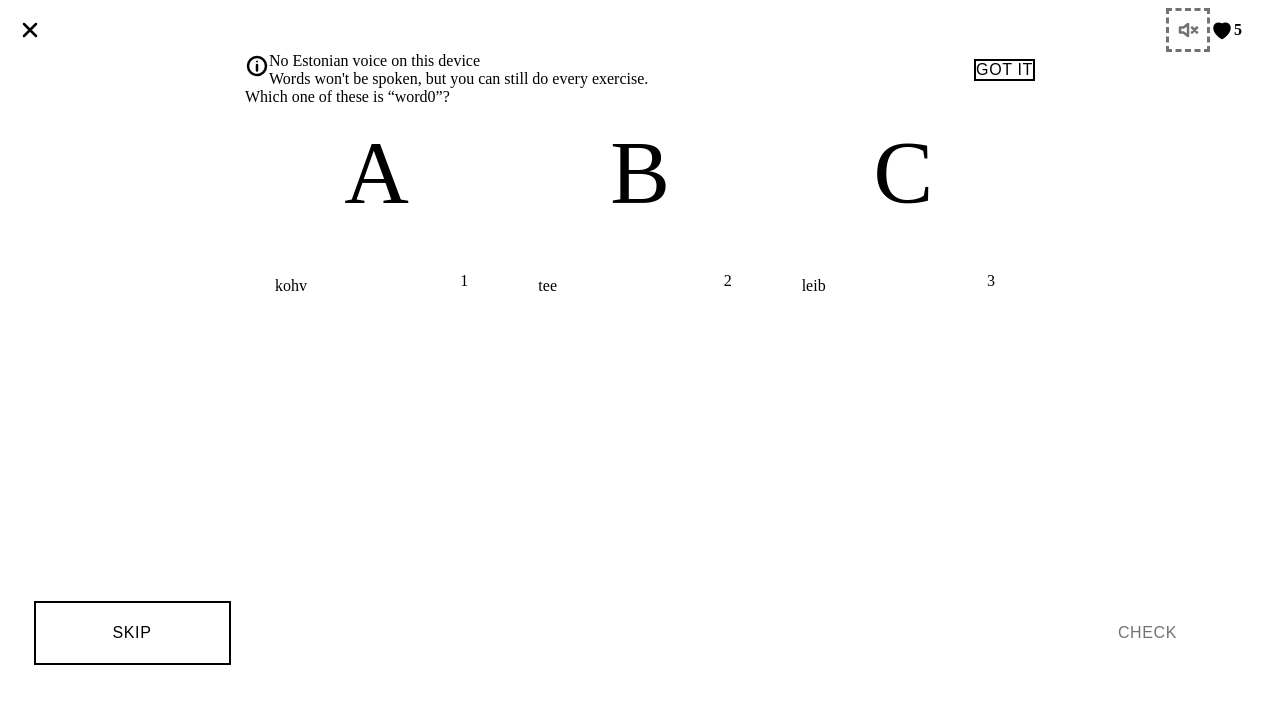
ExerciseSession speech and sound notices › with no Estonian voice › dismissal is saved, hides the notice, and the icon re-opens it
Click the button "Got it": click(1005, 70) [974,59,1035,81]
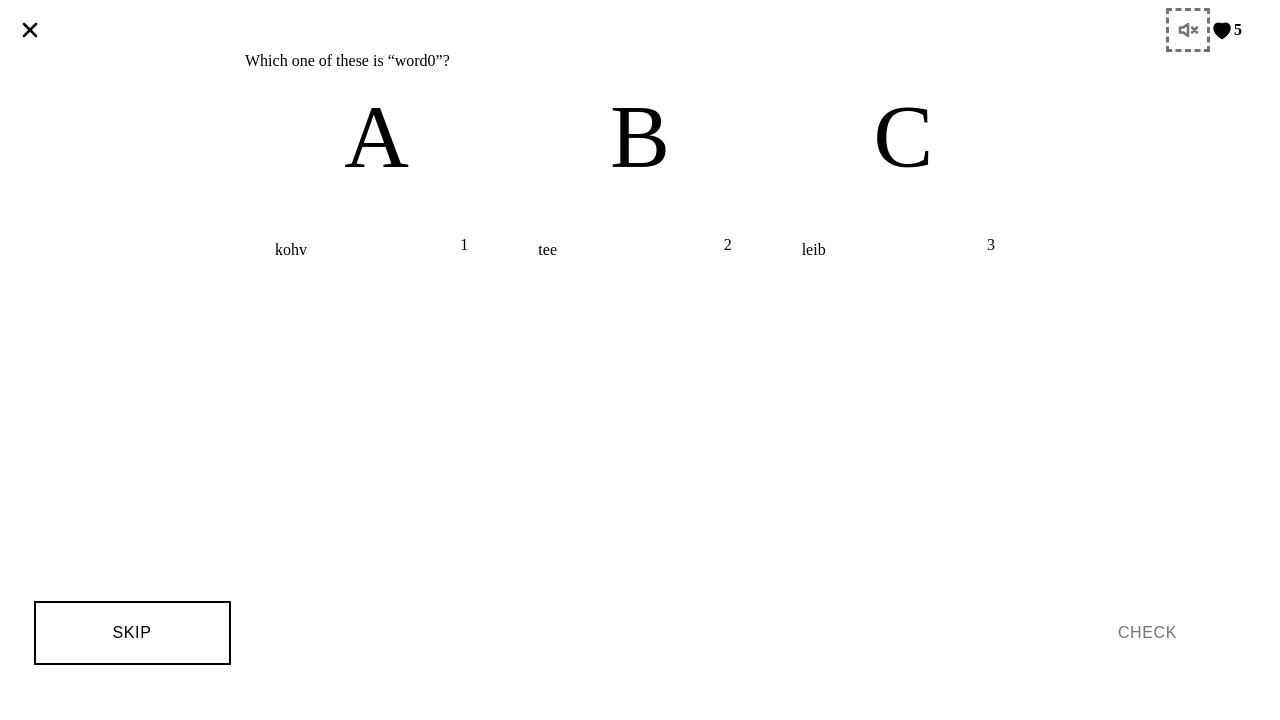
Expected: the text "No Estonian voice on this device" is gone
Click the button named "Sound unavailable": click(1188, 30) [1166,8,1210,52]
Wait 100 ms
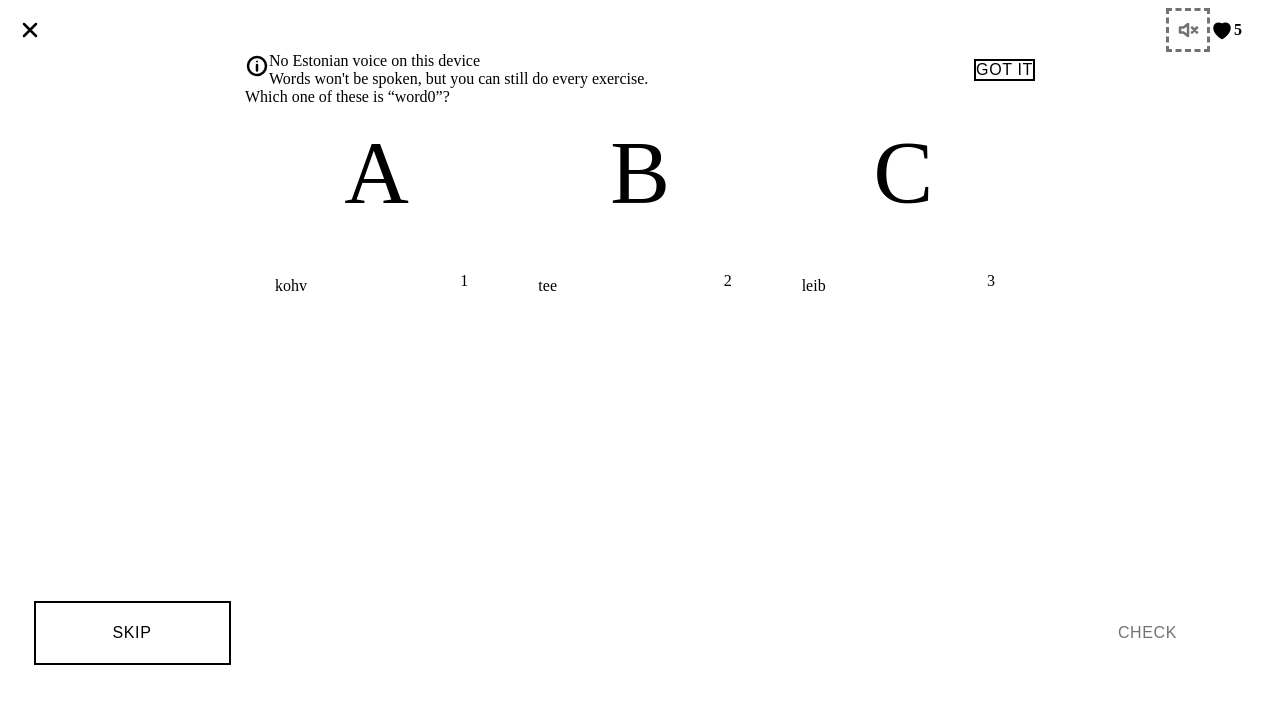
Expected: the text "No Estonian voice on this device" is shown, [269,52,480,69]
